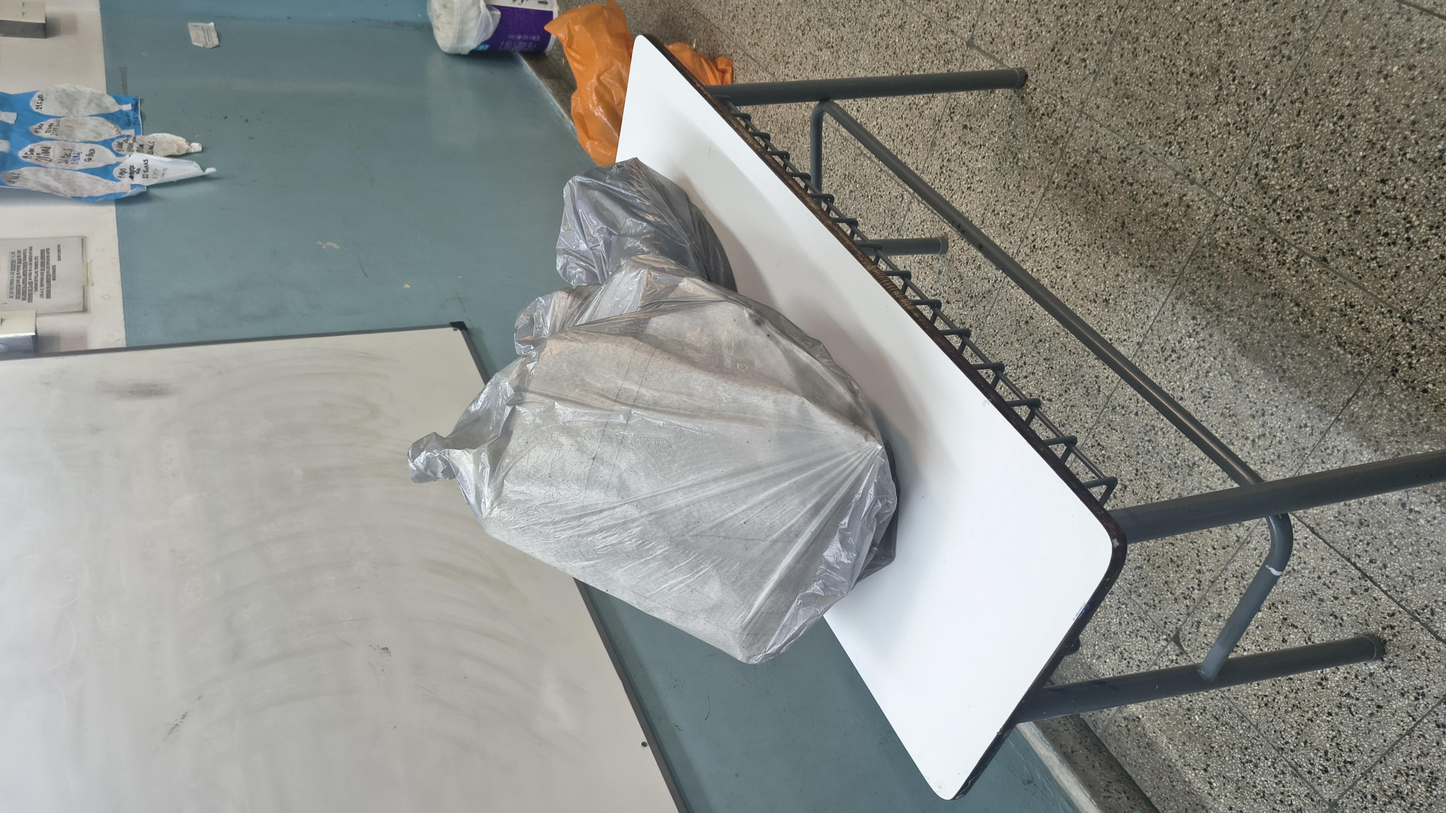Garbage: (251, 208, 1004, 520), (785, 258, 1199, 417)
